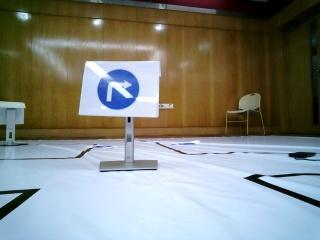right: (88, 61, 155, 114)
